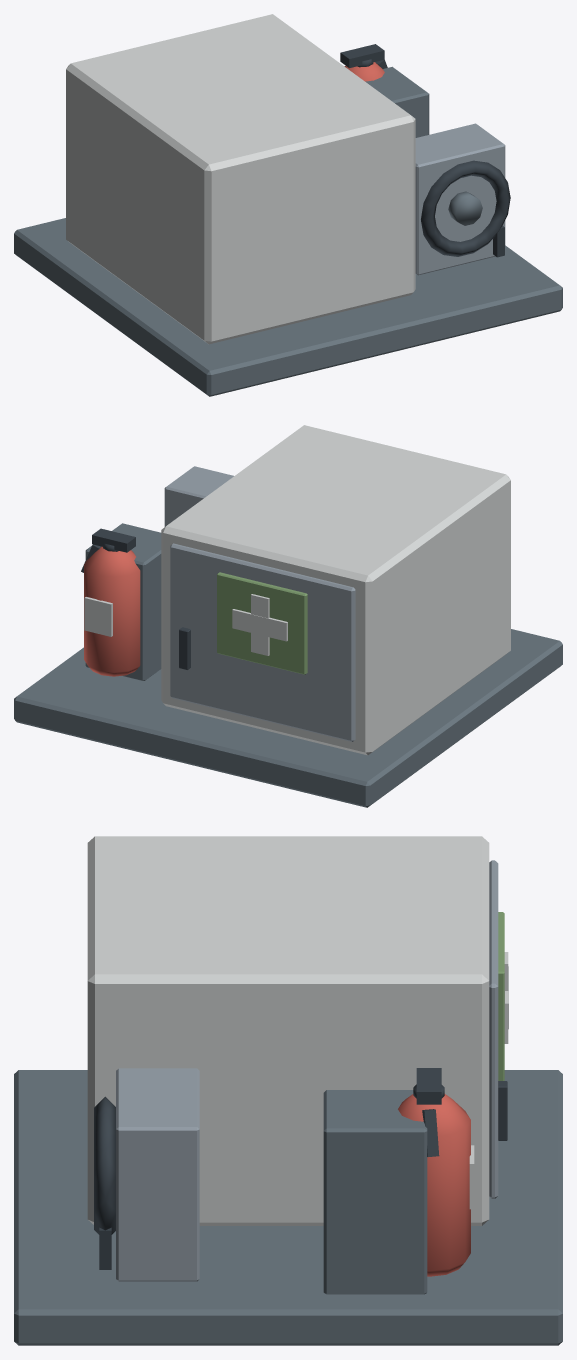
Rendered from MOD_RepairBay.fbx.
3 views of the same model, one above another, from view 1: azimuth 30°, elevation 25°; view 2: azimuth 150°, elevation 25°; view 3: azimuth 270°, elevation 25° (orthographic). The views are drawn at different scales.
Parts seen in each view (by area): view 1: MOD_RepairBay_Root_Visual; view 2: MOD_RepairBay_Root_Visual; view 3: MOD_RepairBay_Root_Visual.
Boxes of the visible parts, x1,y1,x2,y2 form: MOD_RepairBay_Root_Visual: (14, 14, 562, 396); MOD_RepairBay_Root_Visual: (14, 425, 562, 807); MOD_RepairBay_Root_Visual: (14, 836, 562, 1345).
Size of the model in its own units: 172 by 95 by 164.
